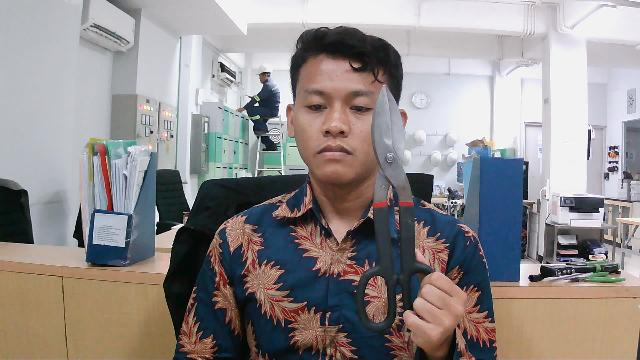gunting_plat: (345, 89, 459, 343)
